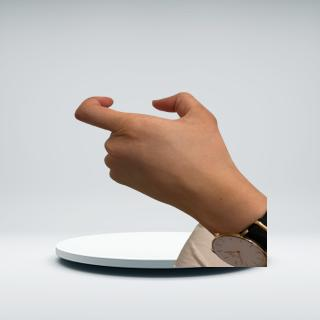HATE: (65, 87, 238, 218)
